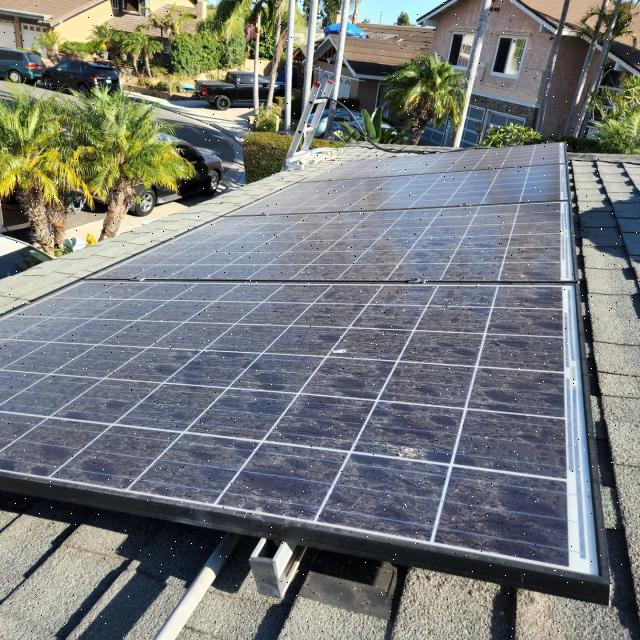dusty: (7, 150, 571, 560)
